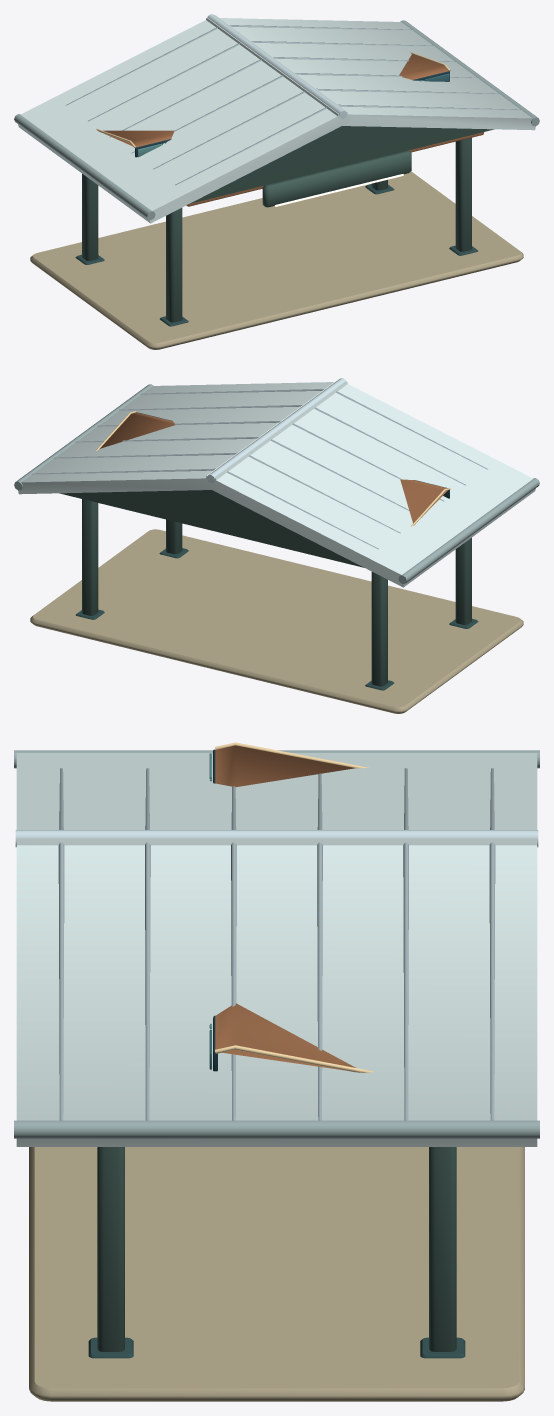
File: wilderness_fuel.glb
3 views of the same model, one above another, from view 1: azimuth 30°, elevation 25°; view 2: azimuth 150°, elevation 25°; view 3: azimuth 270°, elevation 25° (orthographic). The views are drawn at different scales.
Parts seen in each view (by area): view 1: WildernessFuel; view 2: WildernessFuel; view 3: WildernessFuel.
Part boxes in pixels (x1,y1,x2,y2): WildernessFuel: (14,14,539,349); WildernessFuel: (14,378,539,713); WildernessFuel: (14,742,539,1401).
Size of the model in its own units: 9.79 by 4.73 by 5.75.
